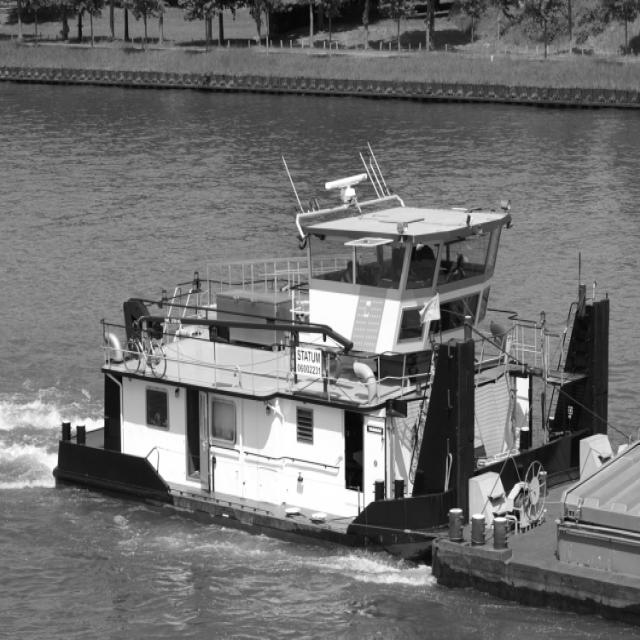tugboat: (48, 170, 615, 579)
